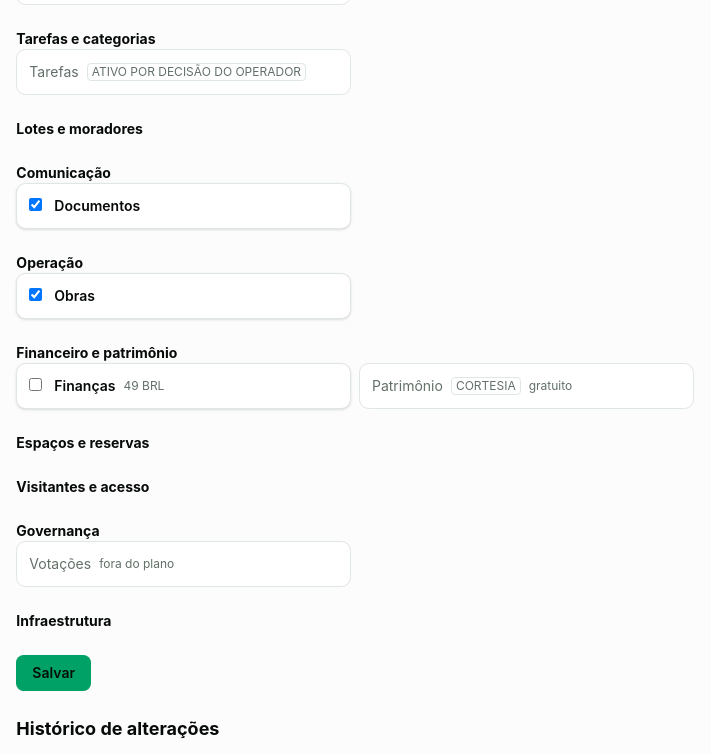
Scenario: SubscriptionPage › renders the not-entitled message when the PUT is refused
(page scrolled)
Click the checkbox labelled "Finanças": point(36, 384) left=29, top=378, right=42, bottom=391
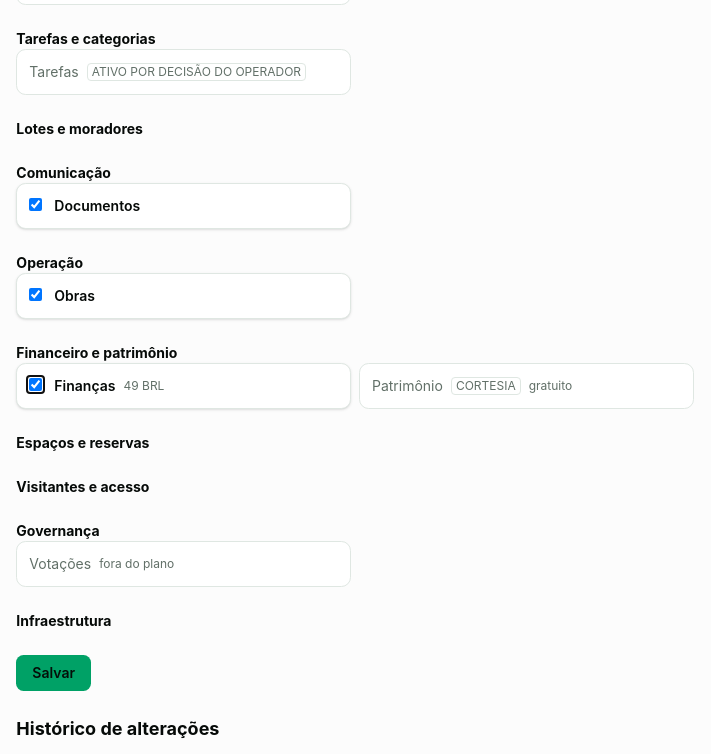
Click the button "Salvar": point(54, 673) left=16, top=655, right=91, bottom=691
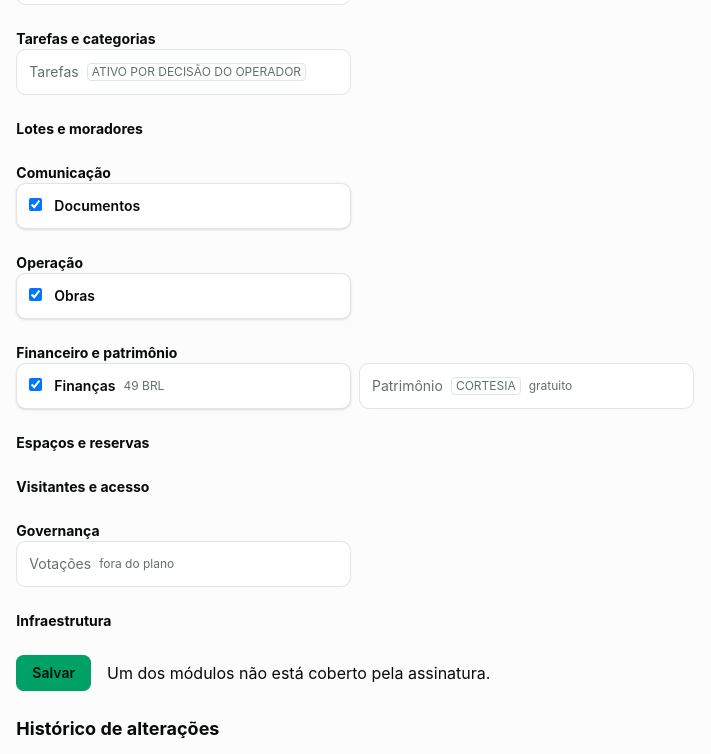
Check: the message reads "Um dos módulos não está coberto pela assinatura.", box left=107, top=663, right=490, bottom=683
